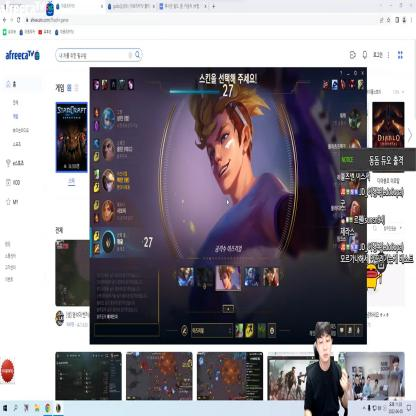streamer: (304, 321, 347, 416)
